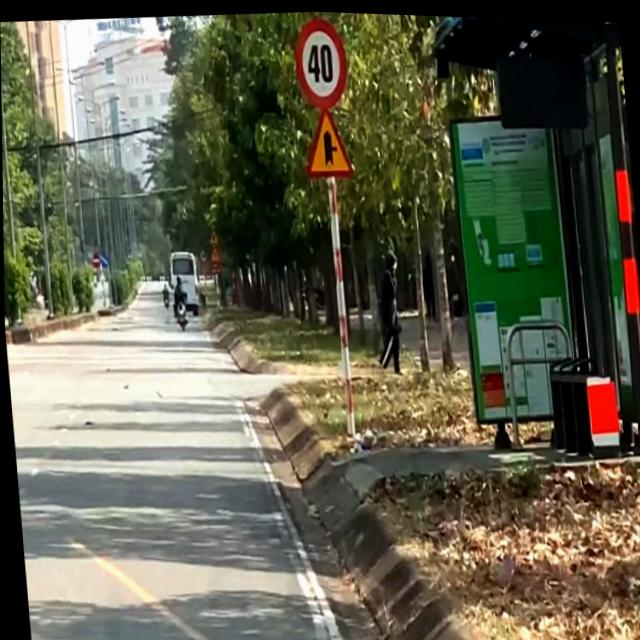Cam di nguoc chieu: (90, 251, 100, 268)
Giao nhau voi duong khong uu tien ben phai: (300, 104, 355, 181)
Toc do toi da cho phep: (288, 13, 353, 104)
Vong chuong ngai vat sang phai: (98, 252, 107, 267)
